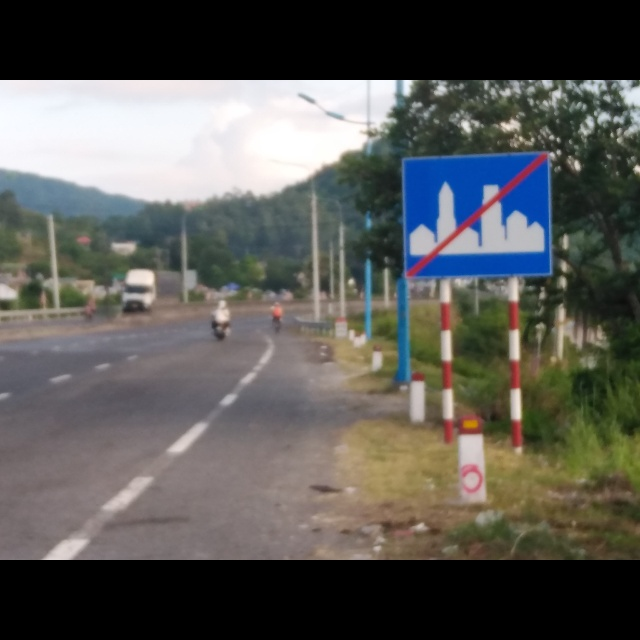Hết khu đông dân cư: (400, 149, 554, 280)
